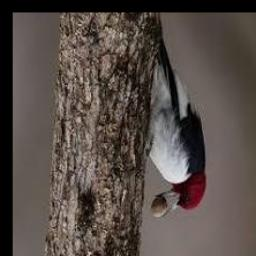Woodpecker: (146, 17, 206, 219)
